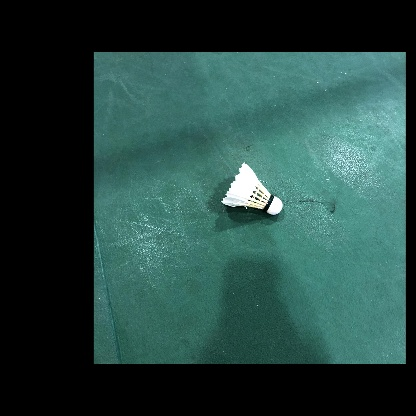ball_single: (222, 163, 283, 215)
